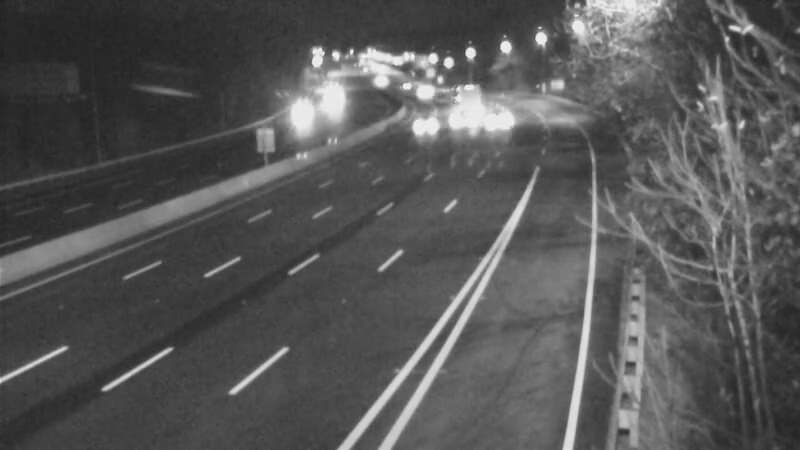vehicle: (355, 56, 405, 106), (379, 63, 429, 113), (399, 69, 449, 119), (440, 82, 490, 132), (471, 101, 521, 151), (431, 95, 481, 145), (403, 101, 453, 151), (277, 90, 327, 140), (305, 73, 355, 123)
